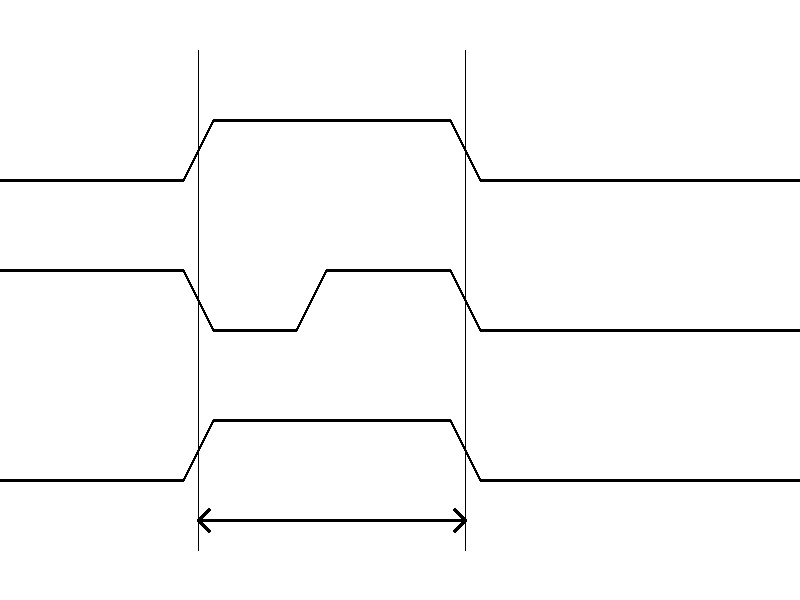double_arrow: (198, 505, 465, 535)
